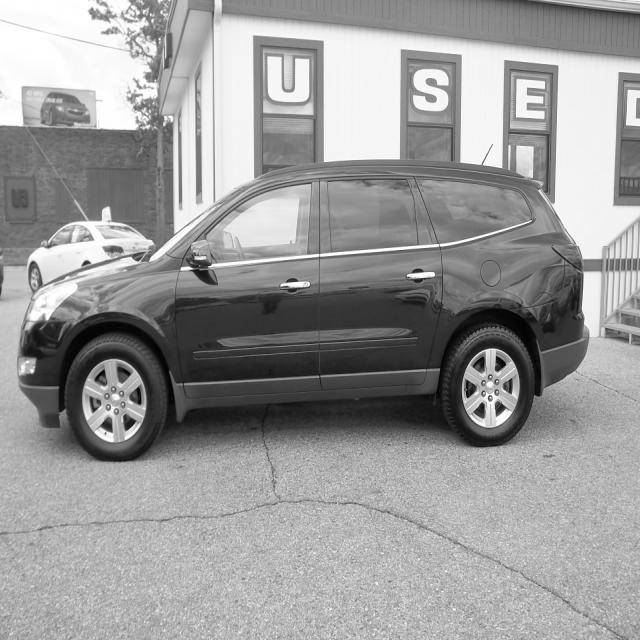car: (16, 157, 590, 462), (26, 206, 156, 293), (40, 90, 90, 126)
